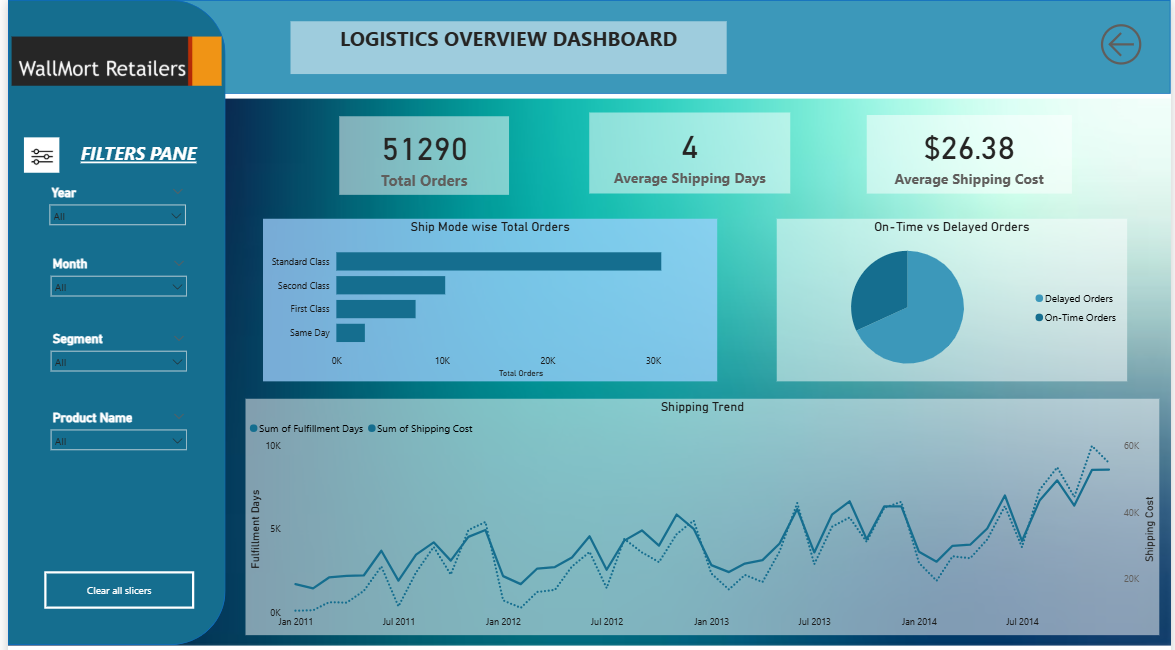

What the dashboard file says about the page in this screenshot:
{"tool":"powerbi","page":{"name":"Logistics Overview Dashboard","canvas":[1550,1000],"ordinal":0},"visuals":[{"type":"shape","box":[0,0,1550,125],"z":0},{"type":"shape","box":[0,0,290,860],"z":1000},{"type":"image","box":[0,38.8,289.6,86.6],"z":2000},{"type":"textbox","box":[78.6,182.9,191.4,47.1],"z":3000},{"type":"card","fields":{"Values":["Orders.Total Orders"]},"box":[441.7,155,226.7,105],"z":4000},{"type":"slicer","fields":{"Values":["Orders.Order Date.Variation.Date Hierarchy.Year"]},"box":[45,241.7,201.7,65],"z":5000},{"type":"card","fields":{"Values":["Orders.Average Shipping Days"]},"box":[775,150,268.3,108.3],"z":6000},{"type":"slicer","fields":{"Values":["Orders.Order Date.Variation.Date Hierarchy.Month"]},"box":[46.7,336.7,201.7,63.3],"z":7000},{"type":"card","fields":{"Values":["Orders.Avg Shipping Cost"]},"box":[1145,153.3,273.3,105],"z":8000},{"type":"slicer","fields":{"Values":["Orders.Product Name"]},"box":[46.7,541.7,201.7,66.7],"z":9000},{"type":"image","box":[11.4,178.6,67.1,57.1],"z":10000},{"type":"actionButton","box":[48.3,761.7,200,50],"z":11000},{"type":"shape","box":[355,306.7,625,248.3],"z":12000},{"type":"shape","box":[1003.3,306.7,501.7,248.3],"z":13000},{"type":"actionButton","box":[1450,25,85,68.3],"z":14000},{"type":"slicer","fields":{"Values":["Orders.Segment"]},"box":[46.7,436.7,201.7,63.3],"z":15000},{"type":"textbox","box":[376.7,28.3,581.7,70],"z":16000},{"type":"lineChart","title":"Shipping Trend","fields":{"Y":["Sum(Orders.Fulfillment Days)"],"Y2":["Sum(Orders.Shipping Cost)"],"Category":["Orders.Order Date.Variation.Date Hierarchy.Year","Orders.Order Date.Variation.Date Hierarchy.Month"]},"box":[316.7,531.7,1218.3,315],"z":17000},{"type":"barChart","title":"Ship Mode wise Total Orders","fields":{"Category":["Orders.Ship Mode"],"Y":["Orders.Total Orders"]},"box":[340,291.4,605.7,217.1],"z":18000},{"type":"pieChart","title":"On-Time vs Delayed Orders","fields":{"Category":["Orders.Orders Shipped within SLA"],"Y":["Orders.Total Orders"]},"box":[1025.7,291.4,467.1,217.1],"z":19000}]}

Visuals, with their boxes on the page's 1550x1000 design canvas (x1, y1, x2, y2). These are canvas units, not pixel positions in the 1175x650 screenshot, which may show the page scaled, cropped or inside an application window:
shape: crop(0, 0, 1550, 125)
shape: crop(0, 0, 290, 860)
image: crop(0, 39, 290, 125)
textbox: crop(79, 183, 270, 230)
card - Orders.Total Orders: crop(442, 155, 668, 260)
slicer - Orders.Order Date.Variation.Date Hierarchy.Year: crop(45, 242, 247, 307)
card - Orders.Average Shipping Days: crop(775, 150, 1043, 258)
slicer - Orders.Order Date.Variation.Date Hierarchy.Month: crop(47, 337, 248, 400)
card - Orders.Avg Shipping Cost: crop(1145, 153, 1418, 258)
slicer - Orders.Product Name: crop(47, 542, 248, 608)
image: crop(11, 179, 78, 236)
actionButton: crop(48, 762, 248, 812)
shape: crop(355, 307, 980, 555)
shape: crop(1003, 307, 1505, 555)
actionButton: crop(1450, 25, 1535, 93)
slicer - Orders.Segment: crop(47, 437, 248, 500)
textbox: crop(377, 28, 958, 98)
"Shipping Trend" lineChart: crop(317, 532, 1535, 847)
"Ship Mode wise Total Orders" barChart: crop(340, 291, 946, 508)
"On-Time vs Delayed Orders" pieChart: crop(1026, 291, 1493, 508)
